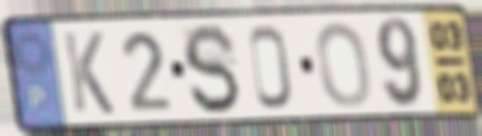0: (247, 23, 295, 111)
2: (119, 30, 175, 114)
9: (376, 15, 428, 111)
K: (60, 29, 117, 117)
O: (314, 19, 374, 110)
S: (179, 21, 244, 117)
